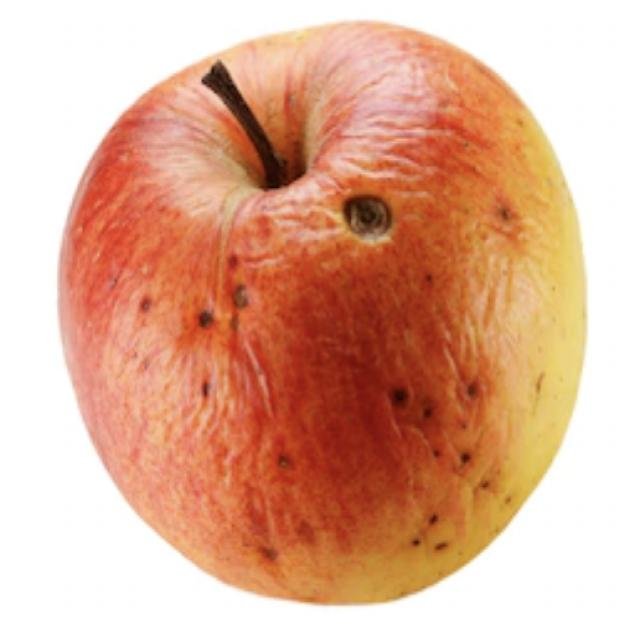rotten_apple: (58, 20, 592, 601)
